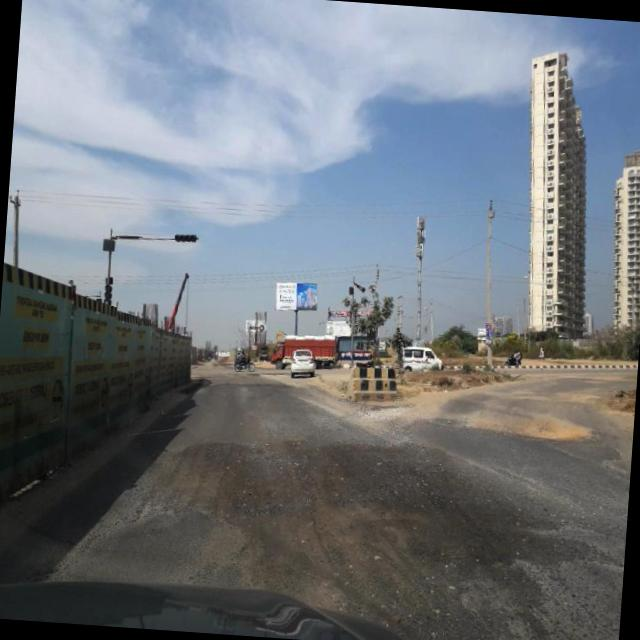pothole: (187, 426, 616, 640), (22, 448, 207, 586), (447, 394, 594, 452)
